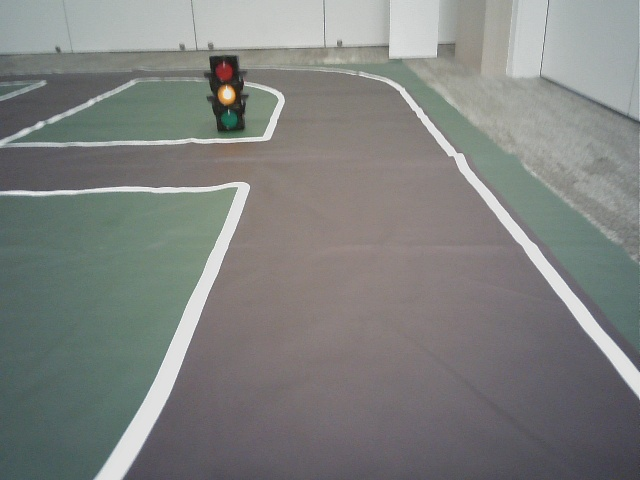yellow: (209, 57, 241, 126)
